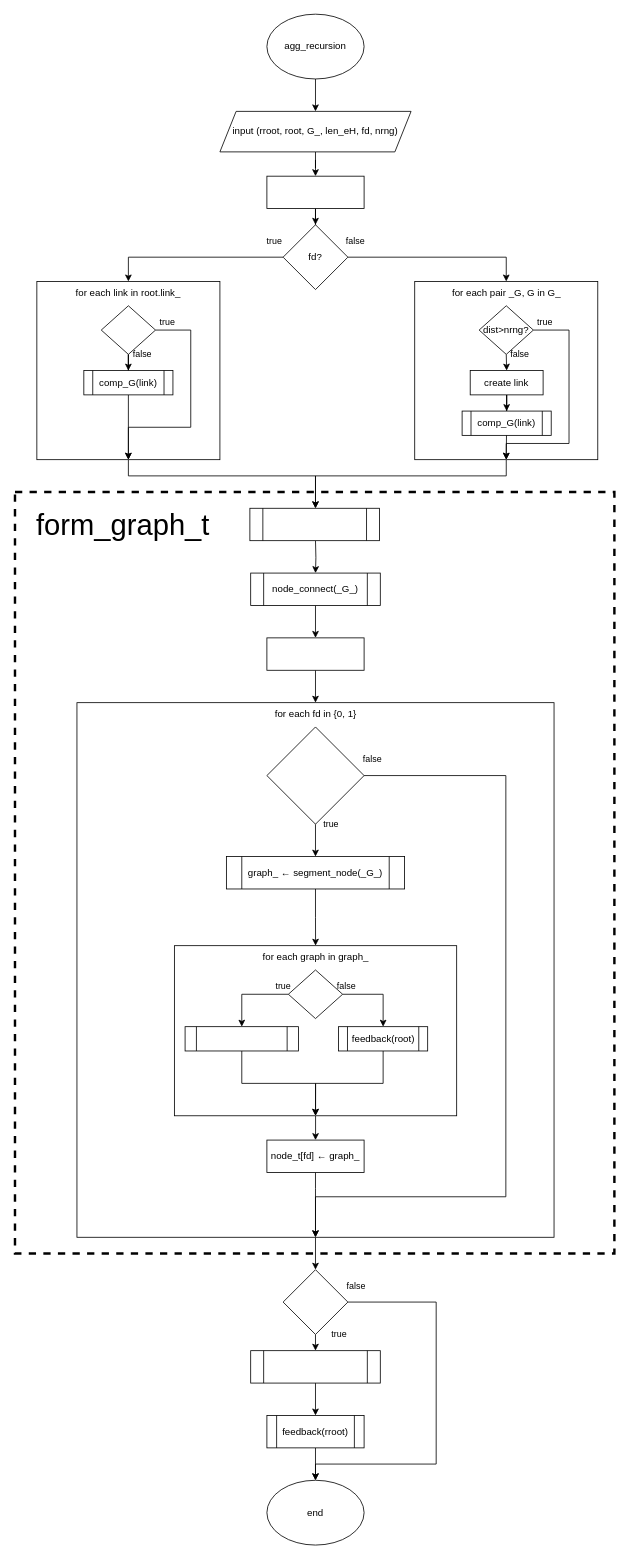
The diagram is 629 pixels wide and 1559 high, and some of its shapes have lost their labels. Here are the shapes that lost their labels. From the top down, the centre of each, then its label:
At (x=315, y=192): "init Et".
At (x=128, y=329): "val<ave?".
At (x=314, y=524): "_G_ ← prune(G_)".
At (x=315, y=653): "init empty node_t".
At (x=315, y=775): "eValt > ave * eRdnt".
At (x=315, y=994): "val>ave?".
At (x=241, y=1038): "agg_recursion(root)".
At (x=315, y=1301): "node_t not empty?".
At (x=315, y=1366): "agg_recursion(rroot)".
